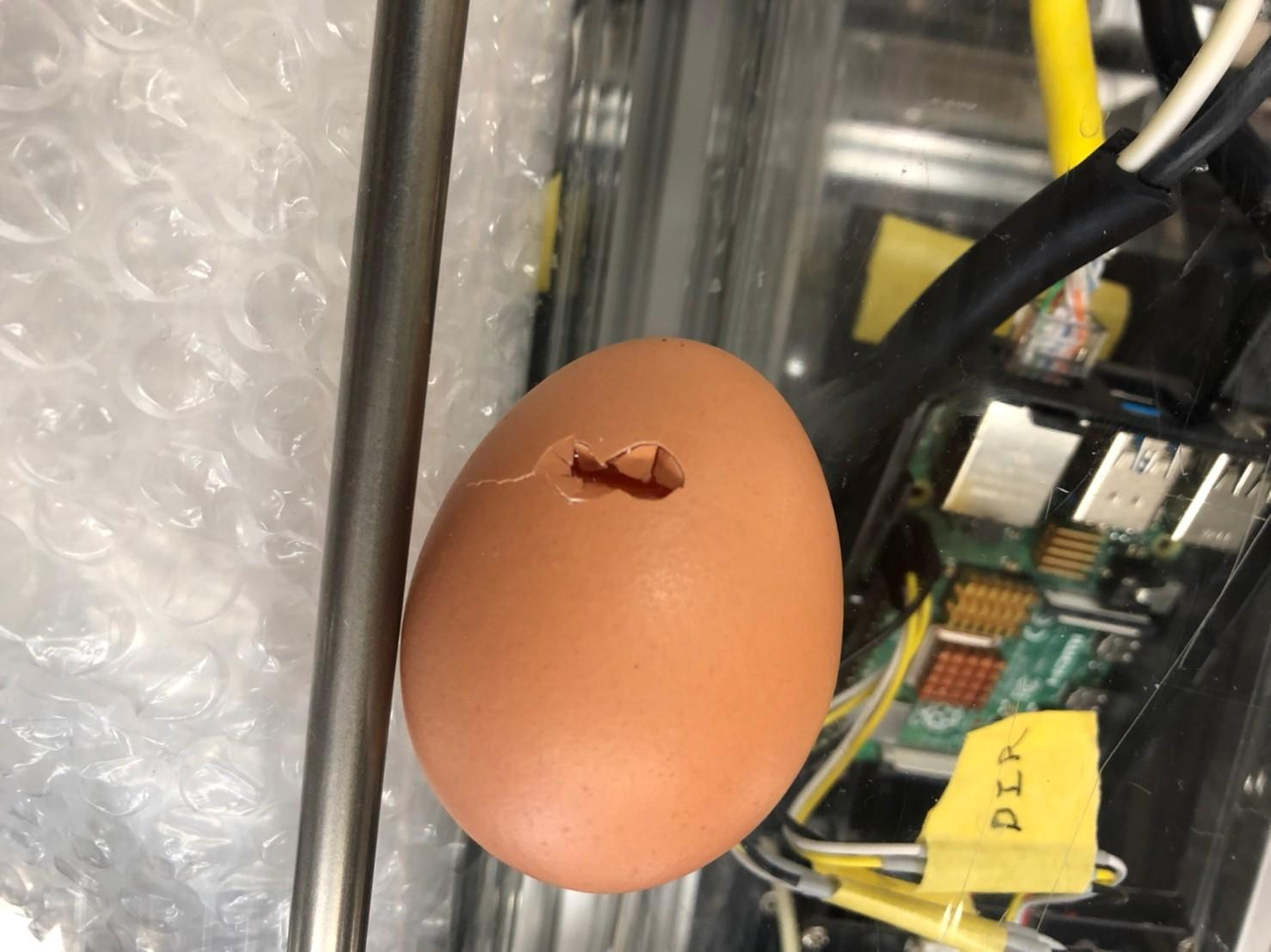egg: (392, 326, 849, 898)
